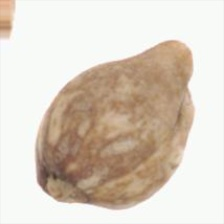L1: (43, 175, 90, 206), (180, 39, 198, 114)
L2: (35, 39, 195, 210)
